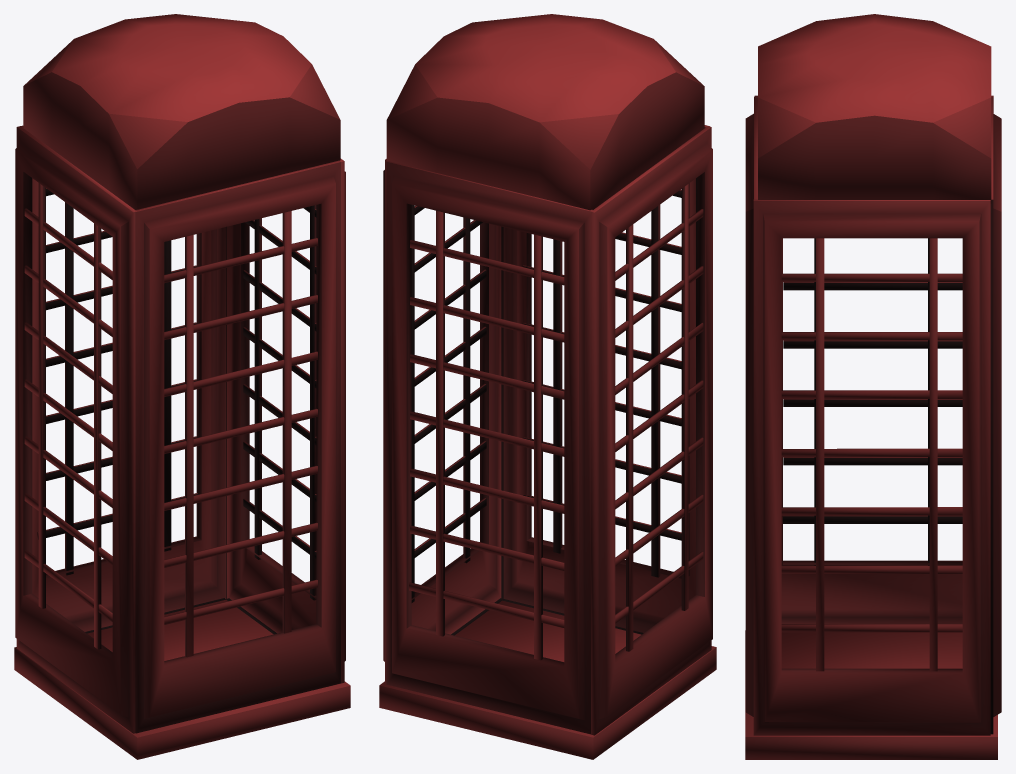
The picture shows the model from 3 angles, left to right: view 1: azimuth 30°, elevation 25°; view 2: azimuth 150°, elevation 25°; view 3: azimuth 270°, elevation 25°; orthographic projection. The views are drawn at different scales.
Visible parts, largest first — view 1: base.031; view 2: base.031; view 3: base.031.
Boxes of the visible parts, x1,y1,x2,y2 form: base.031: [14, 14, 350, 759]; base.031: [379, 14, 716, 759]; base.031: [745, 14, 1001, 759].
Bounding box in the file's own units: 0.1832 × 0.5 × 0.1765.
